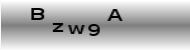9: (87, 23, 100, 37)
A: (105, 8, 124, 23)
B: (29, 6, 44, 22)
w: (66, 23, 84, 35)
z: (50, 21, 65, 33)
